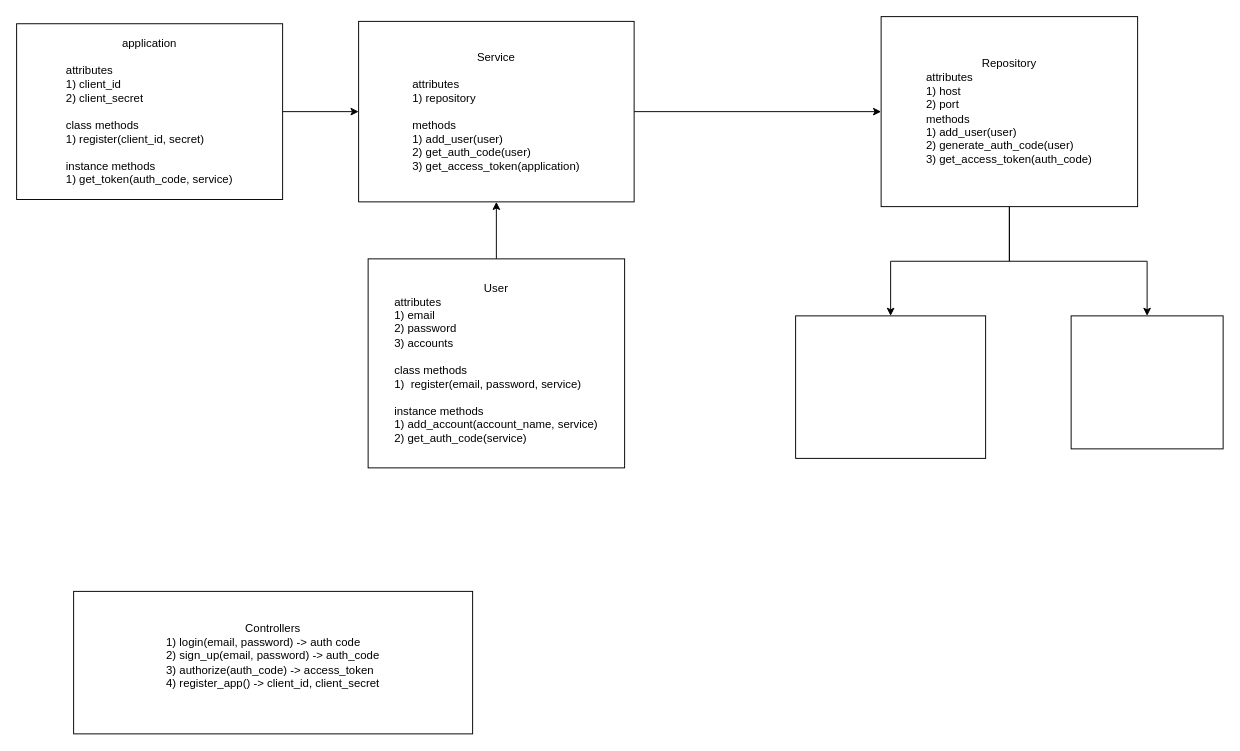
Image size: 1240x751. Some labels were removed from this diagram. Here are the shapes that lost their labels. From the top down, the centre of each, then its label:
point (890, 386): RedisRepository attributes 1) host 2) port methods read methods
point (1146, 382): RethinkDBRepository attributes 1) host 2) port methods read methods
